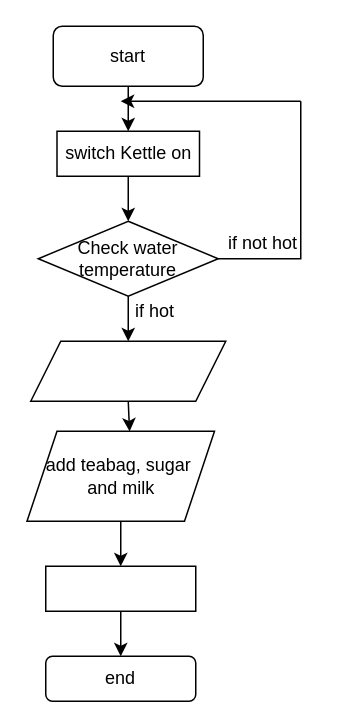
The diagram is 339 pixels wide and 728 high, and some of its shapes have lost their labels. Here are the shapes that lost their labels. From the top down, the centre of each, then its label:
(x=127, y=370): pour water into cup
(x=120, y=588): star and enjoy
